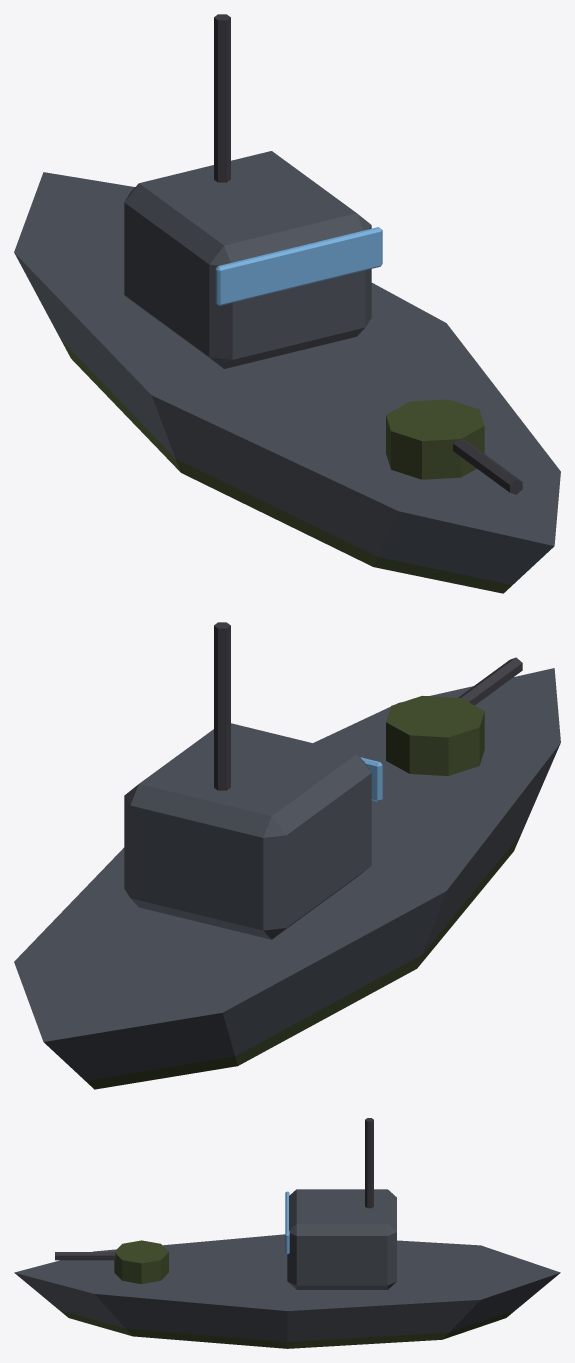
Rendered from PatrolBoat.fbx.
3 renders of one model, top to bottom at view 1: azimuth 30°, elevation 25°; view 2: azimuth 150°, elevation 25°; view 3: azimuth 270°, elevation 25°, orthographic. The views are drawn at different scales.
Parts seen in each view (by area): view 1: PatrolBoat, PatrolBoat_Turret; view 2: PatrolBoat, PatrolBoat_Turret; view 3: PatrolBoat, PatrolBoat_Turret.
Part boxes in pixels (bbox=[...]): PatrolBoat: bbox=[14, 14, 560, 593]; PatrolBoat_Turret: bbox=[386, 399, 522, 494]; PatrolBoat: bbox=[14, 622, 560, 1089]; PatrolBoat_Turret: bbox=[386, 657, 522, 775]; PatrolBoat: bbox=[14, 1118, 560, 1348]; PatrolBoat_Turret: bbox=[55, 1240, 168, 1283].
Size of the model in its own units: 4 by 5.1 by 12.
1 material, 1 textured.
